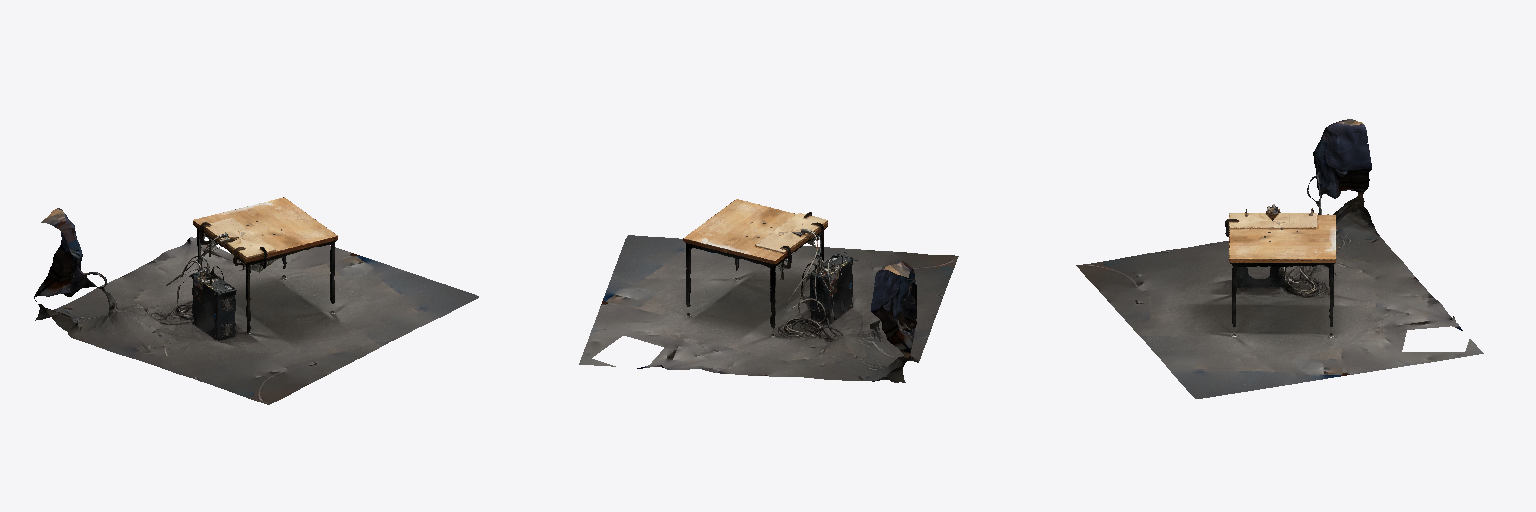
3 renders of one model, left to right at view 1: azimuth 30°, elevation 25°; view 2: azimuth 150°, elevation 25°; view 3: azimuth 270°, elevation 25°, orthographic.
Parts seen in each view (by area): view 1: Mesh_0.002_Material_0.002; view 2: Mesh_0.002_Material_0.002; view 3: Mesh_0.002_Material_0.002.
Boxes of the visible parts, x1,y1,x2,y2 form: Mesh_0.002_Material_0.002: [34, 197, 478, 404]; Mesh_0.002_Material_0.002: [579, 199, 958, 382]; Mesh_0.002_Material_0.002: [1076, 119, 1483, 398].
Bounding box in the file's own units: 3.61 × 1.05 × 3.5.
1 materials, 1 textured.